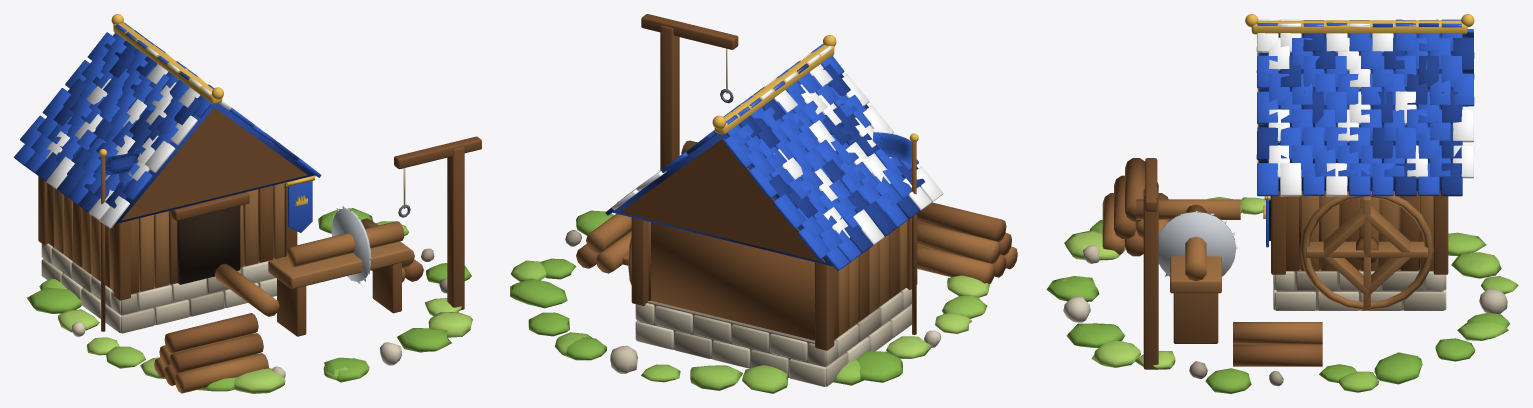
The model's file is b_lumbermill.glb.
3 renders of one model, left to right at view 1: azimuth 30°, elevation 25°; view 2: azimuth 150°, elevation 25°; view 3: azimuth 270°, elevation 25°, orthographic. The views are drawn at different scales.
Parts seen in each view (by area): view 1: root_matte#7a4e2a, hallRoofPivot_team, root_matte#9a6a3c, hallRoofGableEnd, hallRoofPivot_team_dark, root_matte#a06c3c, hallRoofPivot_team_light, root_matte#8a5a32, root_matte#7fb243, root_matte#2a1e14, root_matte#a8d060, root_matte#d6ccb6 (+7 smaller); view 2: root_matte#7a4e2a, hallRoofPivot_team, hallRoofGableEnd, hallRoofPivot_team_dark, root_matte#c9bea8, hallRoofPivot_team_light, root_matte#a06c3c, root_matte#7fb243, root_matte#94c252, root_matte#9a6a3c, root_matte#8a5a32, root_matte#b8ad98 (+6 smaller); view 3: hallRoofPivot_team, root_matte#9a6a3c, root_matte#7a4e2a, hallRoofPivot_team_dark, hallRoofPivot_team_light, root_matte#7fb243, root_matte#a06c3c, root_matte#8a5a32, root_matte#94c252, root_metal#cfd5dc, root_matte#c9bea8, hallRoofPivot_gold#f0bd4c (+5 smaller).
Boxes of the visible parts, left/top/right/bottom form: root_matte#7a4e2a: left=38, top=136, right=481, bottom=336; hallRoofPivot_team: left=14, top=22, right=321, bottom=204; root_matte#9a6a3c: left=54, top=183, right=410, bottom=291; hallRoofGableEnd: left=122, top=108, right=307, bottom=220; hallRoofPivot_team_dark: left=35, top=30, right=314, bottom=223; root_matte#a06c3c: left=154, top=218, right=414, bottom=393; hallRoofPivot_team_light: left=46, top=47, right=297, bottom=228; root_matte#8a5a32: left=164, top=259, right=423, bottom=385; root_matte#7fb243: left=27, top=208, right=471, bottom=391; root_matte#2a1e14: left=177, top=206, right=240, bottom=284; root_matte#a8d060: left=57, top=298, right=472, bottom=393; root_matte#d6ccb6: left=61, top=261, right=401, bottom=365; root_matte#7a4e2a: left=631, top=14, right=917, bottom=350; hallRoofPivot_team: left=617, top=44, right=918, bottom=270; hallRoofGableEnd: left=620, top=138, right=825, bottom=262; hallRoofPivot_team_dark: left=605, top=63, right=925, bottom=266; root_matte#c9bea8: left=610, top=288, right=911, bottom=386; hallRoofPivot_team_light: left=612, top=46, right=943, bottom=245; root_matte#a06c3c: left=586, top=140, right=1017, bottom=284; root_matte#7fb243: left=510, top=210, right=902, bottom=382; root_matte#94c252: left=511, top=260, right=987, bottom=393; root_matte#9a6a3c: left=622, top=221, right=907, bottom=336; root_matte#8a5a32: left=576, top=202, right=1011, bottom=277; root_matte#b8ad98: left=635, top=304, right=911, bottom=386; hallRoofPivot_team: left=1256, top=19, right=1474, bottom=196; root_matte#9a6a3c: left=1170, top=191, right=1434, bottom=310; root_matte#7a4e2a: left=1143, top=158, right=1448, bottom=369; hallRoofPivot_team_dark: left=1256, top=20, right=1473, bottom=196; hallRoofPivot_team_light: left=1256, top=19, right=1474, bottom=196; root_matte#7fb243: left=1046, top=220, right=1509, bottom=393; root_matte#a06c3c: left=1102, top=182, right=1322, bottom=344; root_matte#8a5a32: left=1114, top=158, right=1322, bottom=366; root_matte#94c252: left=1057, top=197, right=1518, bottom=392; root_metal#cfd5dc: left=1158, top=211, right=1237, bottom=277; root_matte#c9bea8: left=1083, top=245, right=1507, bottom=314; hallRoofPivot_gold#f0bd4c: left=1245, top=14, right=1474, bottom=34.
Bounding box in the file's own units: 3.07 × 1.92 × 3.17.
